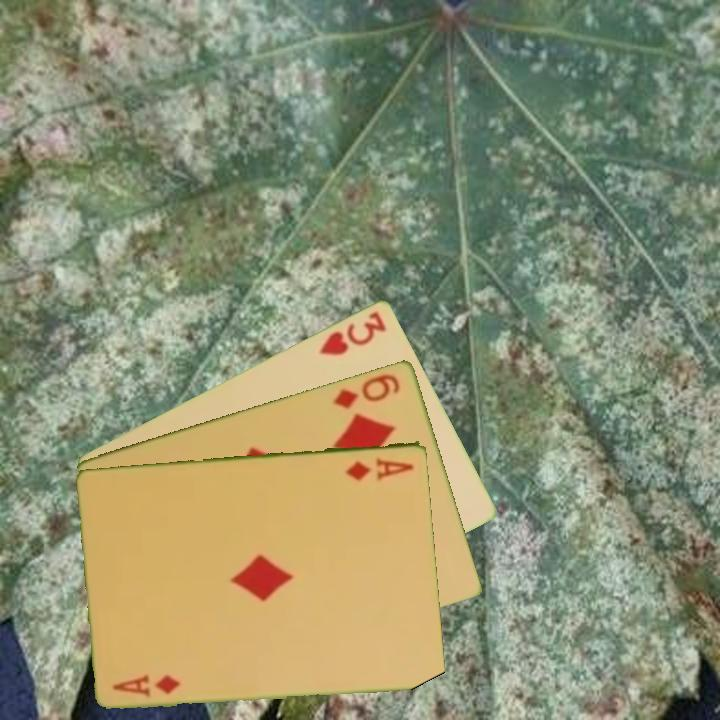3h: (316, 307, 390, 358)
6d: (329, 369, 403, 411)
Ad: (342, 453, 417, 483), (109, 671, 183, 699)
